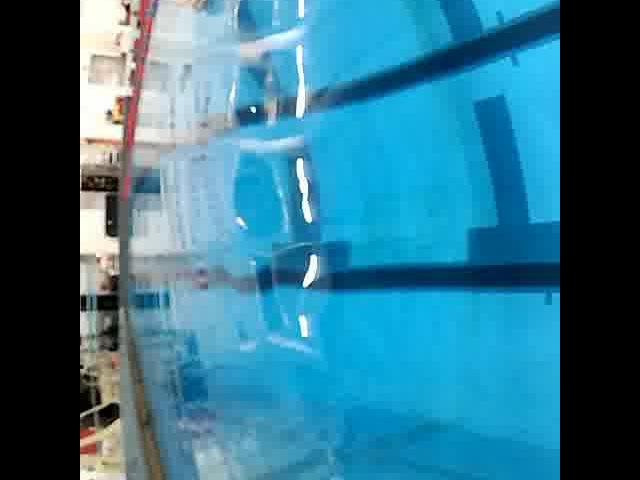Bottle: (170, 0, 230, 17)
